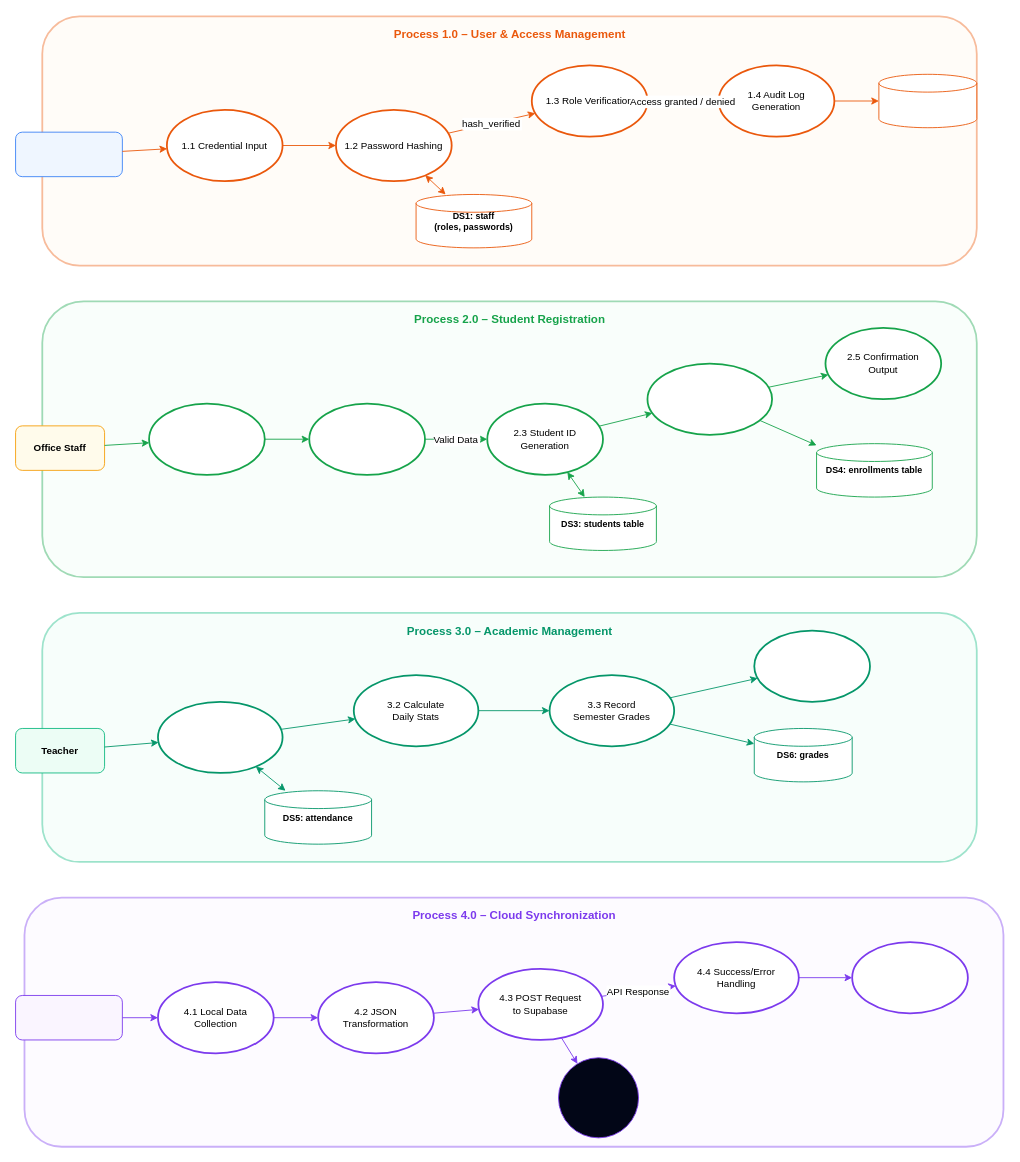
Image size: 1020x1162. Some labels were removed from this diagram. The shapes that lost their labels are listed below. From the top down, each one's centre as x and y in pixels, then its label:
(x=927, y=100): DS2: audit_log
(x=68, y=154): Admin / Staff User
(x=709, y=398): 2.4 Link to Enrollments Table
(x=206, y=438): 2.1 Student Data Input
(x=366, y=438): 2.2 Data Validation
(x=811, y=665): 3.4 Update Report Cards
(x=220, y=736): 3.1 Mark Attendance
(x=909, y=977): 4.5 Cache Update
(x=68, y=1017): Local Data Sources
(x=598, y=1097): Supabase Cloud
